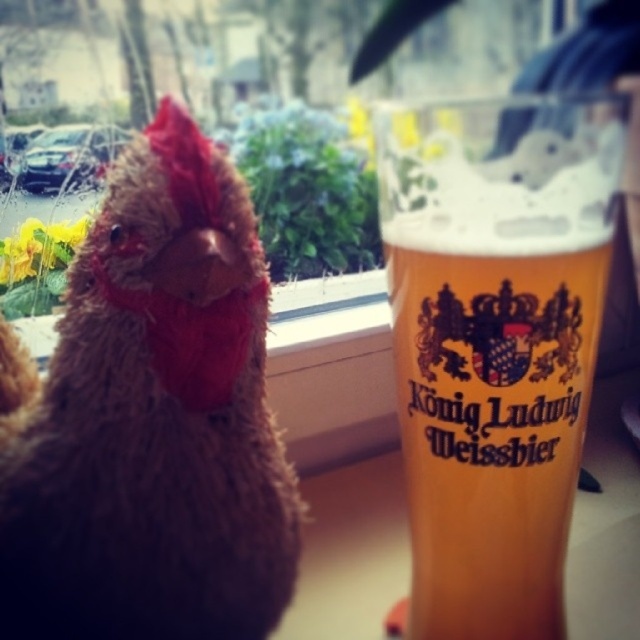Chicken: (48, 88, 306, 586)
